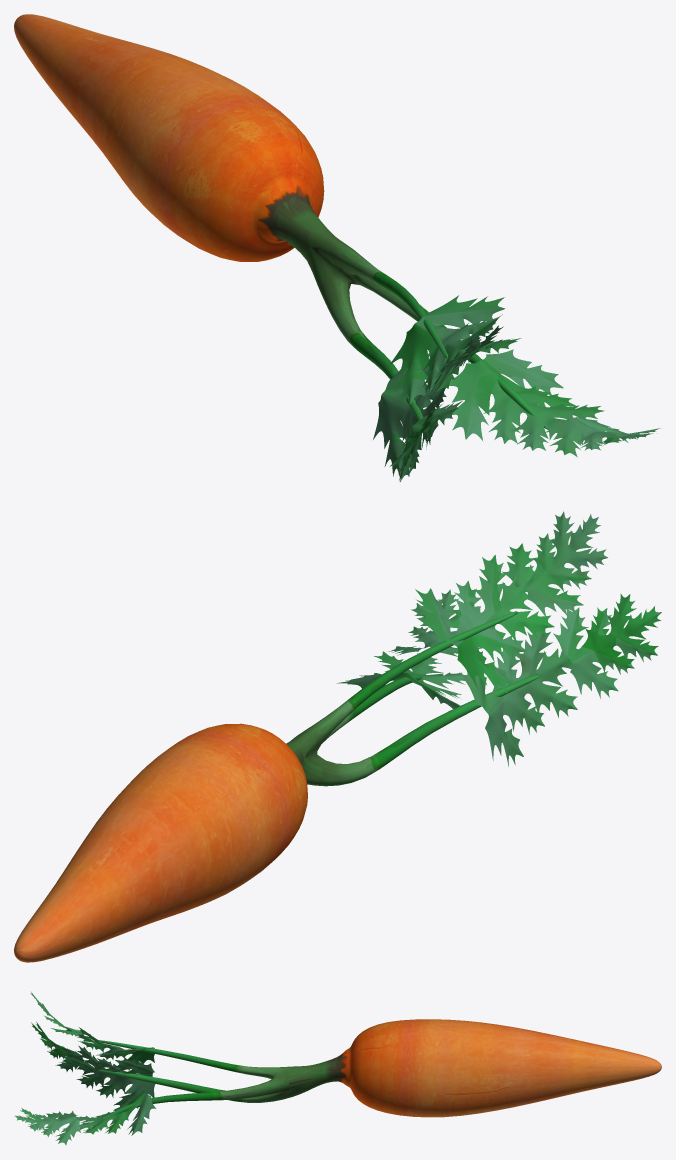
The model's file is VegetablesCarrot.fbx.
The picture shows the model from 3 angles, top to bottom: view 1: azimuth 30°, elevation 25°; view 2: azimuth 150°, elevation 25°; view 3: azimuth 270°, elevation 25°; orthographic projection. The views are drawn at different scales.
Visible parts, largest first — view 1: 10170_Carrot_v01_L3; view 2: 10170_Carrot_v01_L3; view 3: 10170_Carrot_v01_L3.
Boxes of the visible parts, x1,y1,x2,y2 form: 10170_Carrot_v01_L3: (14, 14, 661, 481); 10170_Carrot_v01_L3: (14, 511, 661, 962); 10170_Carrot_v01_L3: (14, 992, 661, 1145).
Bounding box in the file's own units: 7683 × 5601 × 27248.
Materials: 1 (1 with a texture image).
